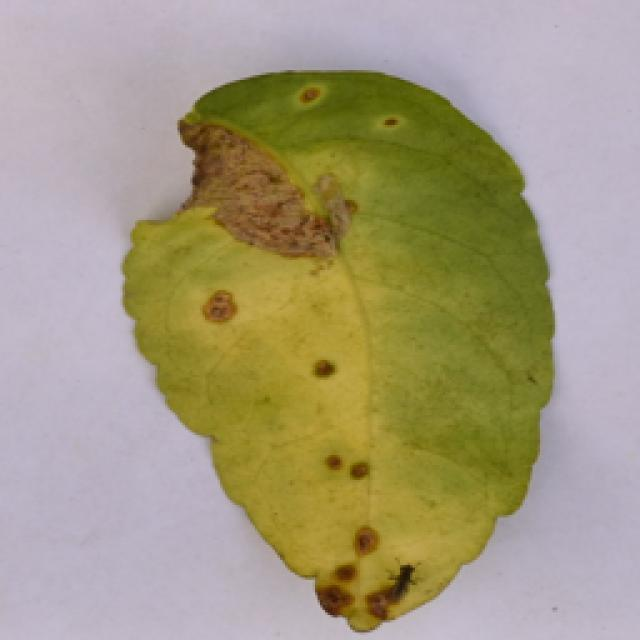canker: (136, 51, 560, 633)
